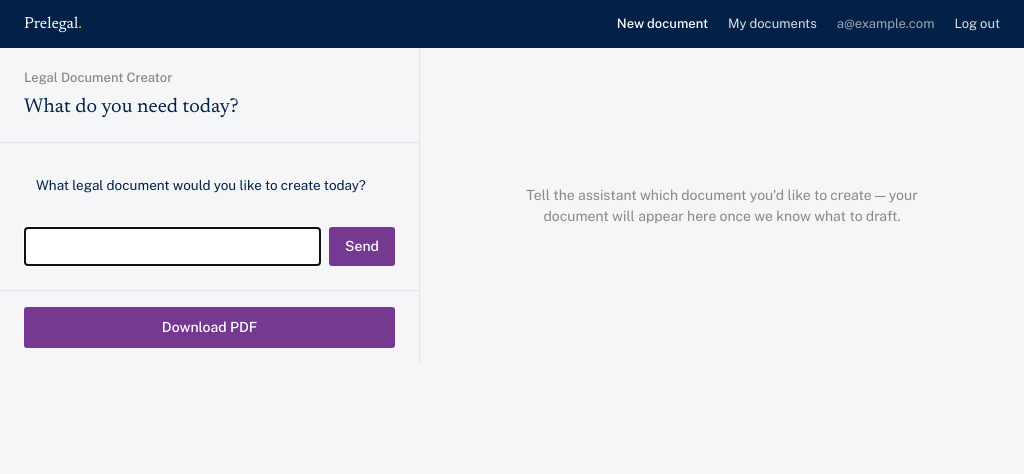
Test: AppShell › clears a reopened document when New document is clicked
This screenshot has width=1024, height=474.
Click the button "My documents": [772, 24] box [728,14,817,34]
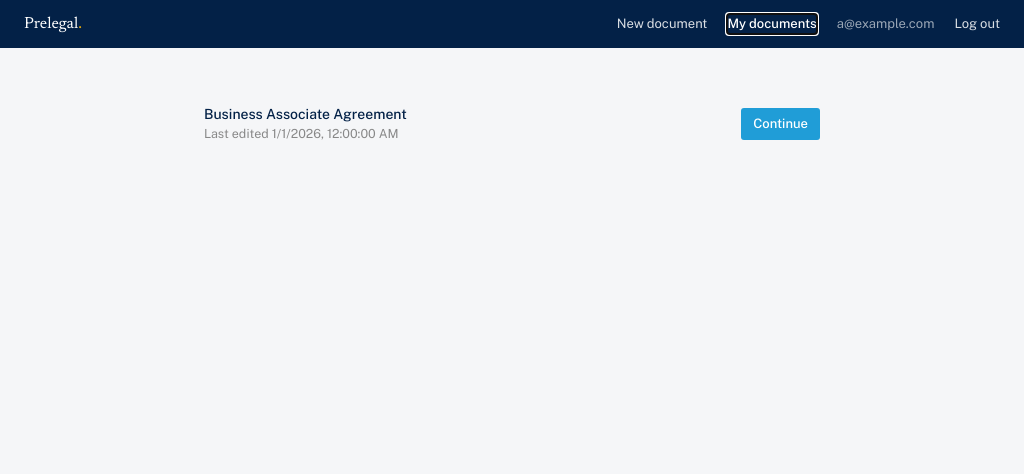
Click the button "Continue": [781, 124] box [741,108,820,140]
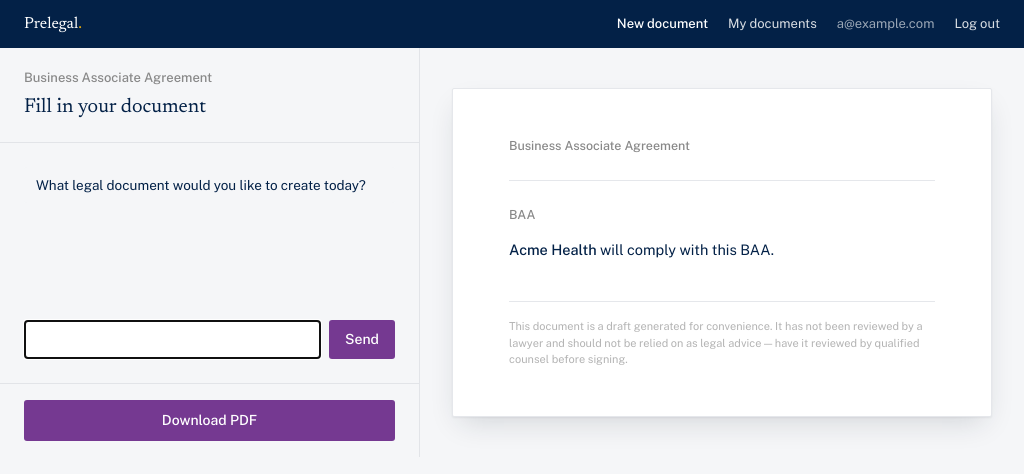
Click the button "New document": [662, 24] box [617,14,708,34]
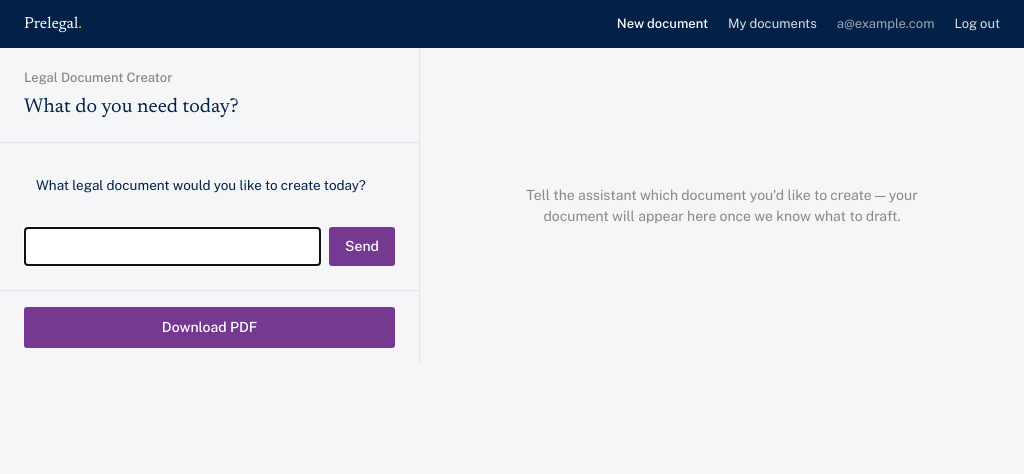
Result: the heading "What do you need today?" is shown at [24,96,238,116]
Result: the text "Acme Health" is gone
